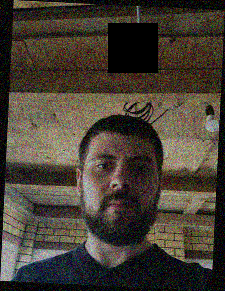without_mask: (85, 147, 158, 245)
